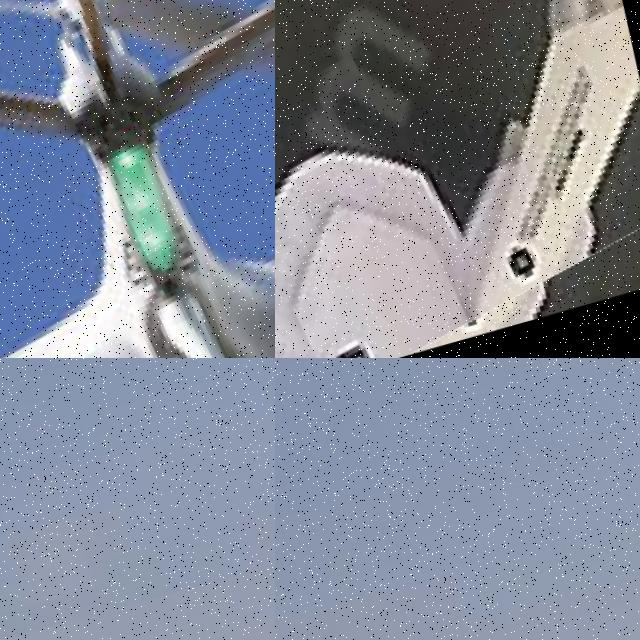drone: (275, 0, 640, 358), (0, 0, 275, 358)
